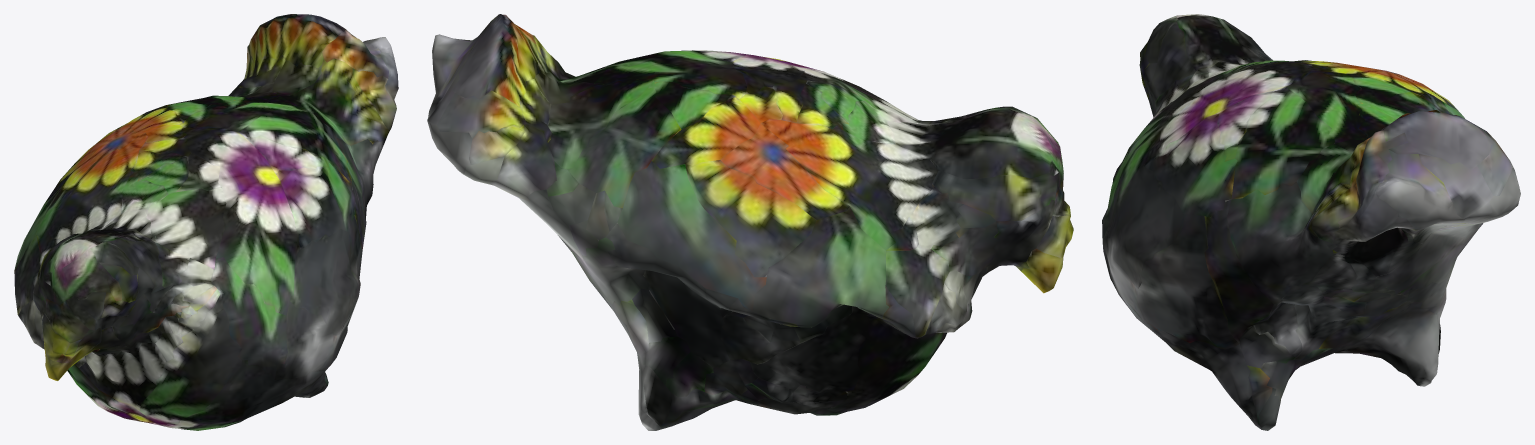
Rendered from hall.glb.
3 views of the same model, side by side, from view 1: azimuth 30°, elevation 25°; view 2: azimuth 150°, elevation 25°; view 3: azimuth 270°, elevation 25° (orthographic). The views are drawn at different scales.
Bounding box in the file's own units: 1.01 × 0.6985 × 0.7525.
1 material, 1 textured.
